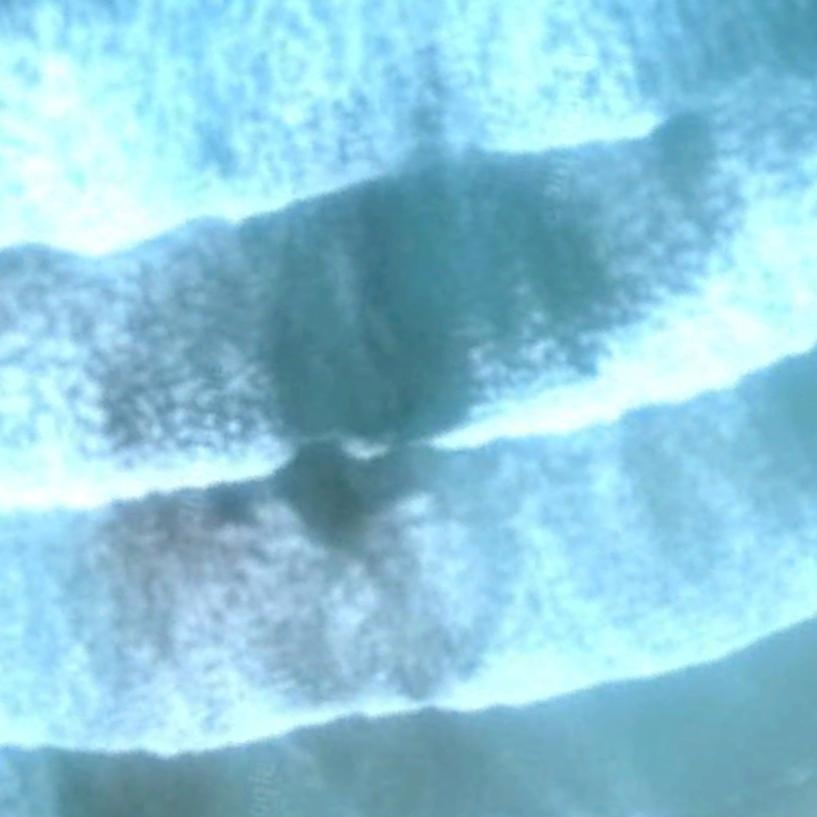rip_current: (195, 129, 574, 600)
